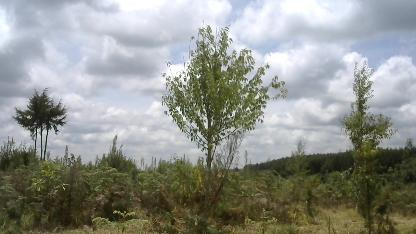tree: (161, 18, 292, 211), (339, 61, 398, 224)
